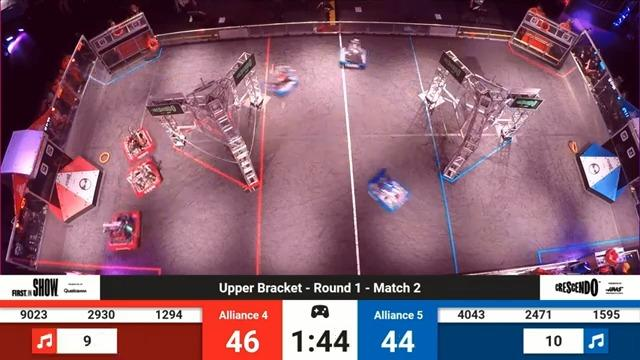robot: (97, 207, 149, 256), (363, 164, 409, 213), (263, 59, 309, 103), (329, 33, 379, 71), (119, 126, 162, 164), (129, 159, 168, 199)
